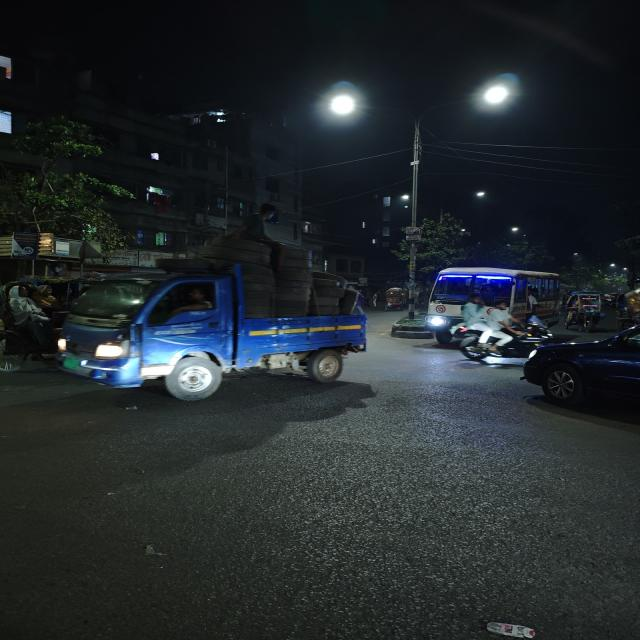bus: (414, 265, 561, 344)
car: (518, 316, 640, 418)
motorcycle: (453, 306, 536, 366)
pickup_van: (52, 242, 374, 406)
rickshaw: (565, 292, 610, 330), (381, 285, 411, 311)
